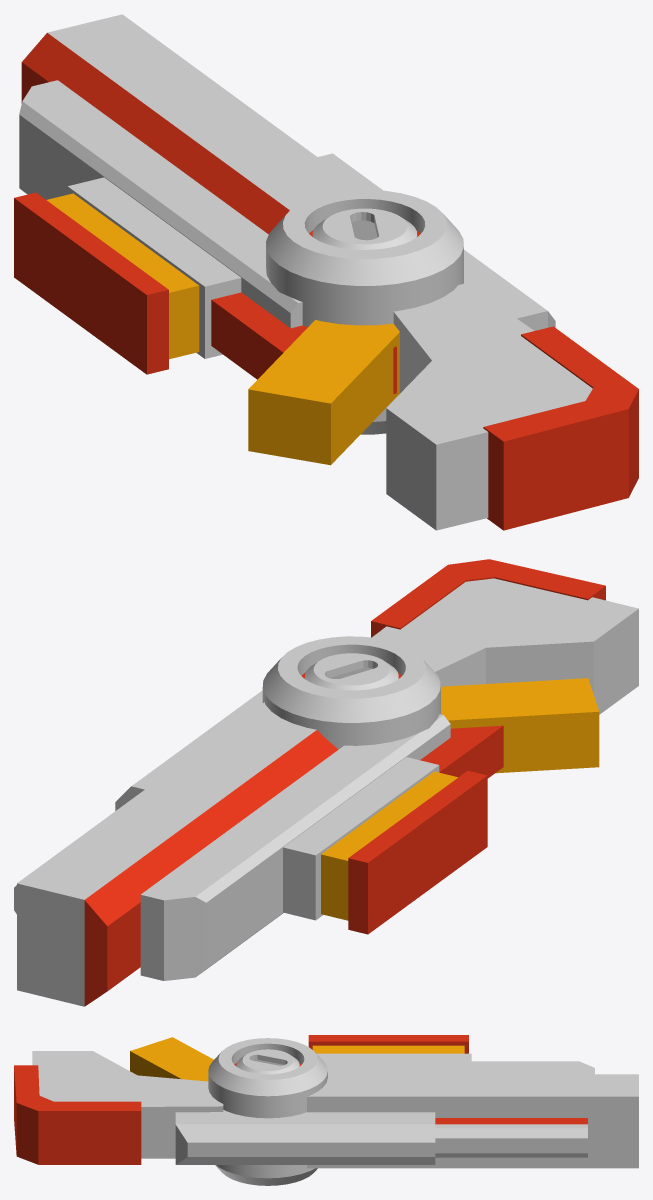
File: Rifle.fbx
3 renders of one model, top to bottom at view 1: azimuth 30°, elevation 25°; view 2: azimuth 150°, elevation 25°; view 3: azimuth 270°, elevation 25°, orthographic. The views are drawn at different scales.
Visible parts, largest first — view 1: Cube.013, Cube.020, Cylinder.006, Cube.029, Cube.016, Cube.030, Cube.014, Cube.017, Cube.019, Cube.015; view 2: Cube.020, Cube.016, Cube.013, Cube.029, Cylinder.006, Cube.014, Cube.017, Cube.030, Cube.019, Cube.015; view 3: Cube.020, Cube.015, Cylinder.006, Cube.030, Cube.013, Cube.018, Cube.016, Cube.029, Cube.014, Cube.017.
Part boxes in pixels (bbox=[...]): Cube.013: bbox=[386, 283, 592, 530]; Cube.020: bbox=[21, 14, 361, 234]; Cylinder.006: bbox=[266, 189, 463, 434]; Cube.029: bbox=[14, 192, 199, 374]; Cube.016: bbox=[19, 80, 302, 328]; Cube.030: bbox=[483, 326, 638, 530]; Cube.014: bbox=[248, 320, 399, 465]; Cube.017: bbox=[67, 177, 241, 358]; Cube.019: bbox=[211, 292, 396, 393]; Cube.015: bbox=[318, 153, 555, 330]; Cube.020: bbox=[17, 702, 338, 1006]; Cube.016: bbox=[140, 714, 450, 980]; Cube.013: bbox=[372, 578, 638, 714]; Cube.029: bbox=[321, 771, 487, 934]; Cylinder.006: bbox=[262, 636, 440, 749]; Cube.014: bbox=[441, 678, 599, 773]; Cube.017: bbox=[283, 757, 439, 920]; Cube.030: bbox=[371, 559, 605, 637]; Cube.019: bbox=[420, 725, 503, 778]; Cube.015: bbox=[115, 690, 262, 810]; Cube.020: bbox=[307, 1074, 638, 1168]; Cube.015: bbox=[175, 1110, 435, 1164]; Cylinder.006: bbox=[208, 1038, 327, 1185]; Cube.030: bbox=[14, 1065, 141, 1164]; Cube.013: bbox=[32, 1051, 223, 1158]; Cube.018: bbox=[435, 1118, 587, 1157]; Cube.016: bbox=[323, 1061, 594, 1074]; Cube.029: bbox=[308, 1035, 468, 1053]; Cube.014: bbox=[130, 1037, 213, 1081]; Cube.017: bbox=[316, 1053, 471, 1061].
Bounding box in the file's own units: 115 × 60.55 × 324.
